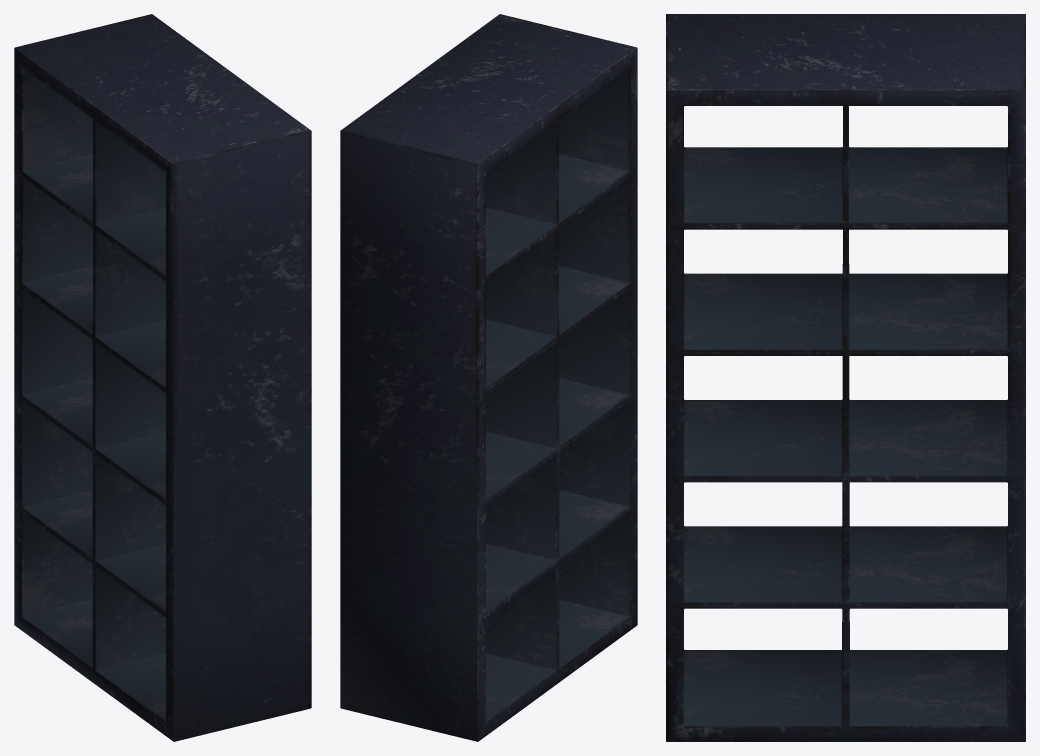
The model's file is rack_02.gltf.
3 views of the same model, side by side, from view 1: azimuth 30°, elevation 25°; view 2: azimuth 150°, elevation 25°; view 3: azimuth 270°, elevation 25° (orthographic). The views are drawn at different scales.
Parts seen in each view (by area): view 1: rack_02; view 2: rack_02; view 3: rack_02.
Part boxes in pixels (left/top/right/bottom): rack_02: left=14, top=14, right=311, bottom=741; rack_02: left=340, top=14, right=637, bottom=741; rack_02: left=666, top=14, right=1025, bottom=741.
Size of the model in its own units: 0.805 by 3.22 by 1.61.
Materials: 1 (1 with a texture image).
